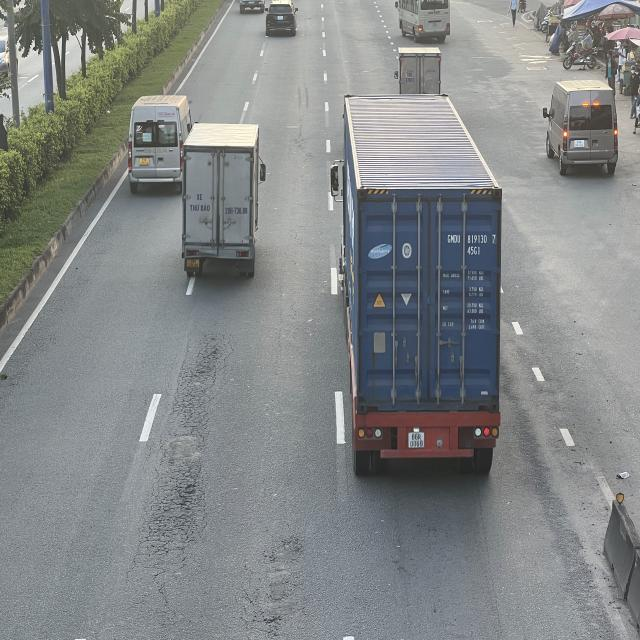car: (265, 0, 299, 36)
coach: (396, 1, 452, 42)
container: (334, 94, 503, 477)
truck: (180, 125, 266, 282), (396, 45, 444, 102)
van: (545, 80, 621, 177), (126, 94, 192, 194)
